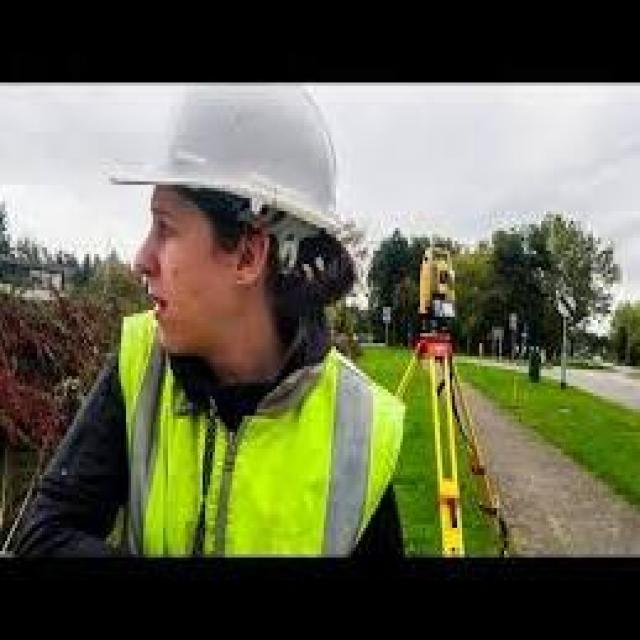Reflective-Jacket: (99, 320, 415, 571)
Safety-Helmet: (106, 86, 373, 250)
